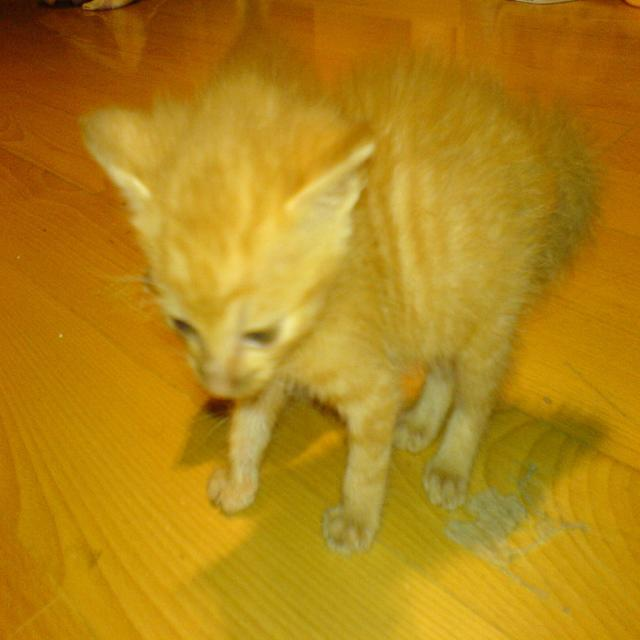Cat: (76, 15, 607, 556)
